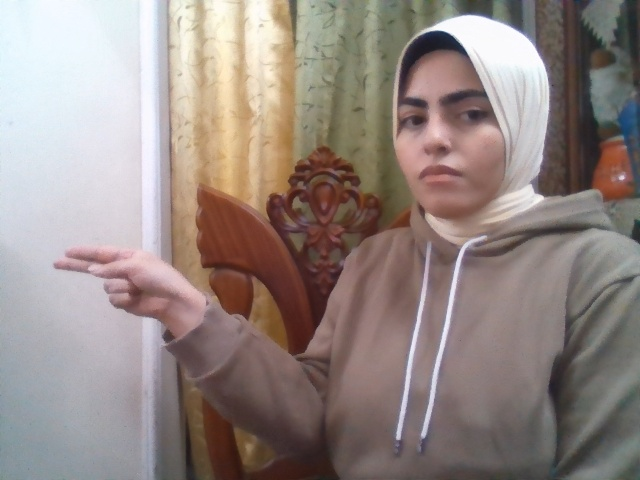H: (53, 245, 186, 319)
